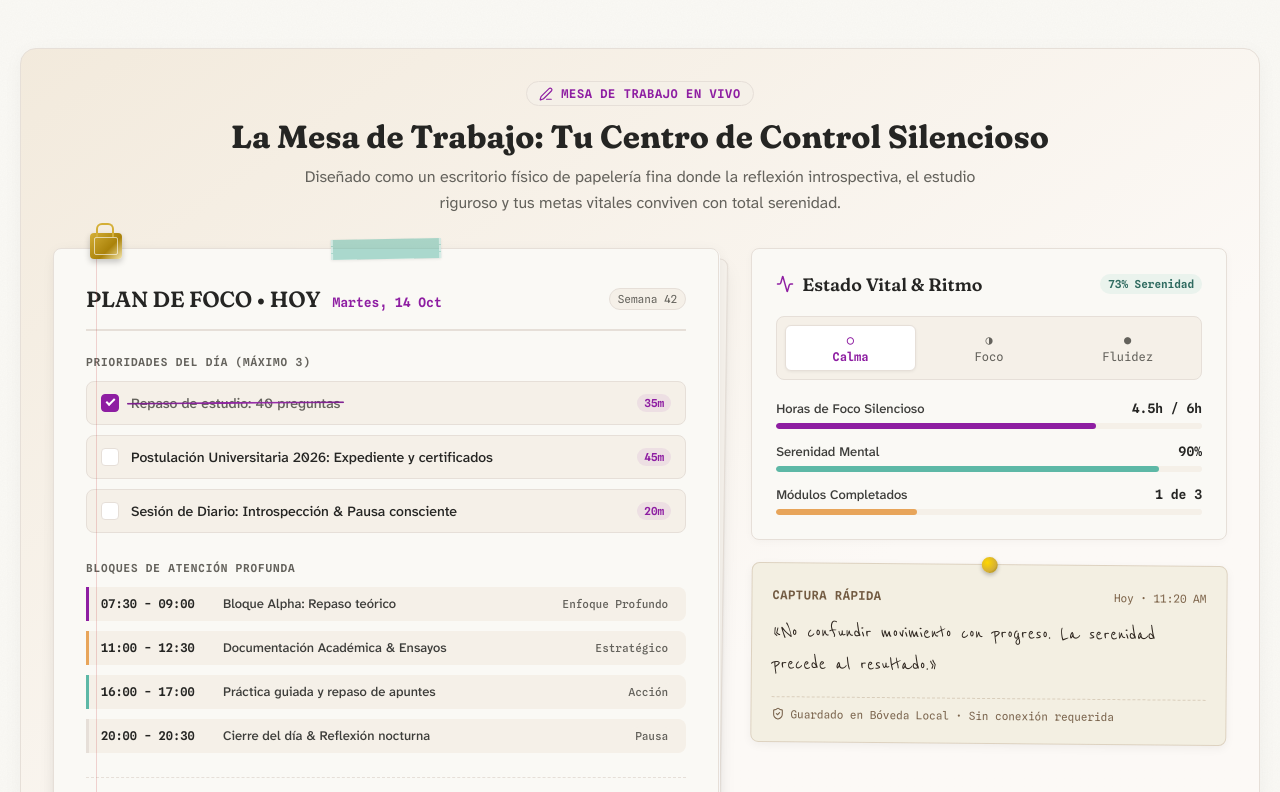
it: LandingDeskPreview › recalcula la tasa de serenidad y actualiza el contador de módulos al alternar tareas
expect the text "73% Serenidad" is shown: met, box [1100,274,1202,294]
expect the text "1 de 3" is shown: met, box [1155,486,1202,503]
Click the checkbox labelled "Postulación Universitaria 2026" at (110, 457), box [101,448,119,466]
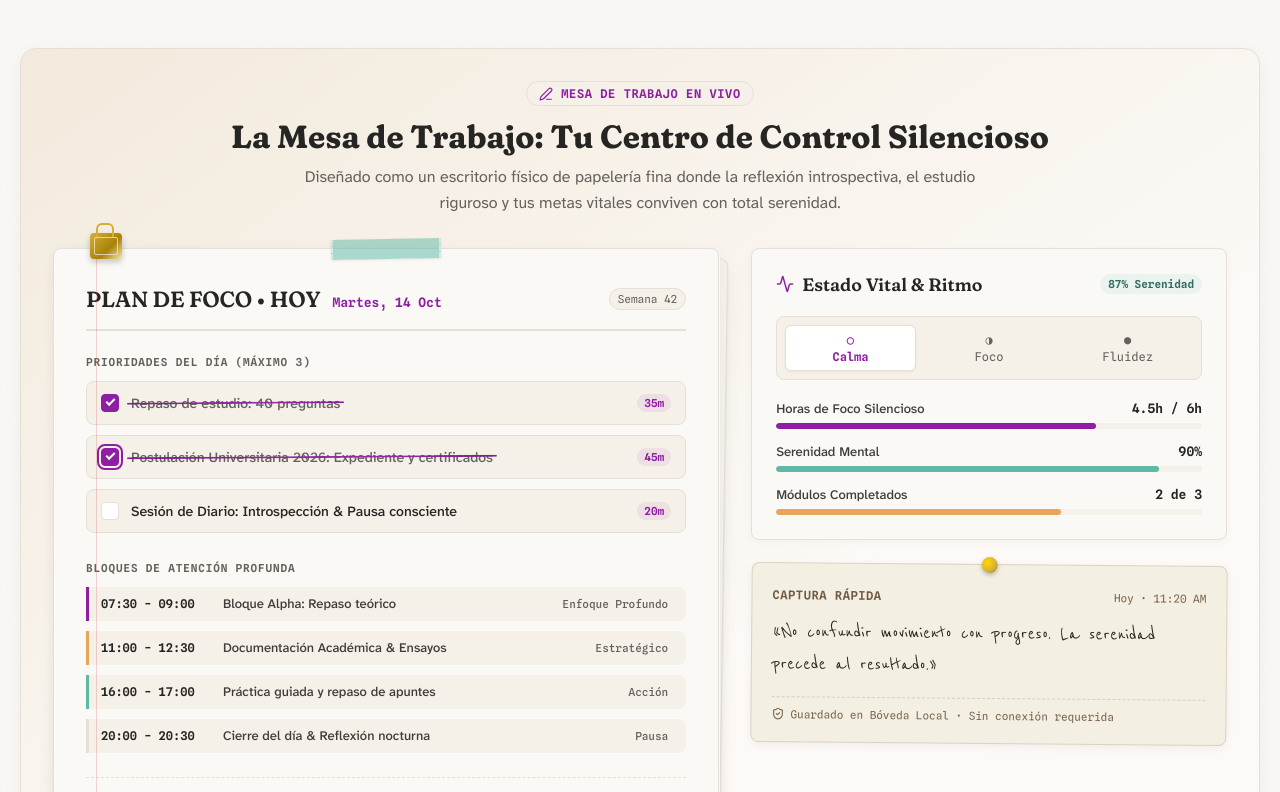
expect the text "87% Serenidad" is shown: met, box [1100,274,1202,294]
expect the text "2 de 3" is shown: met, box [1155,486,1202,503]
